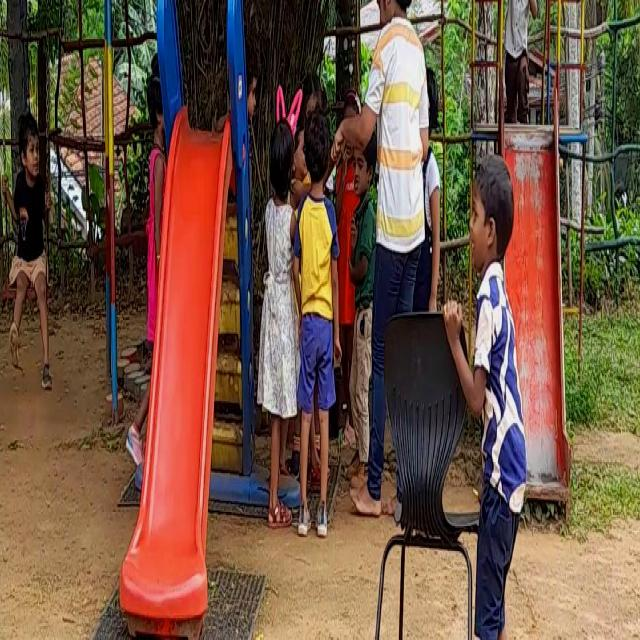adult: (357, 0, 438, 304)
child: (454, 140, 539, 640), (247, 105, 298, 507), (0, 92, 64, 411), (297, 107, 343, 538), (502, 0, 552, 128)
